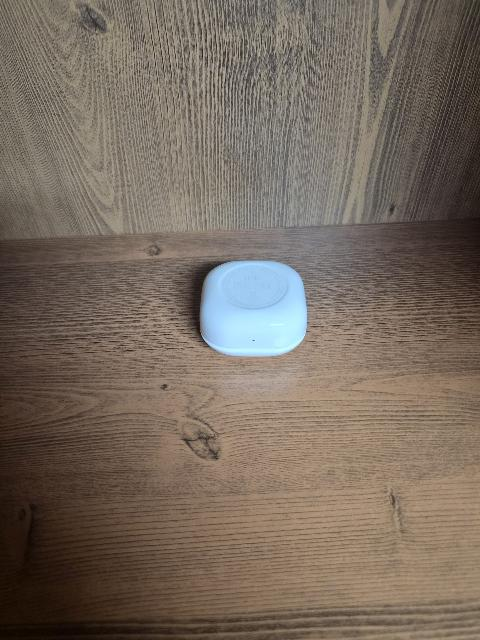earphone_case: (199, 260, 307, 357)
